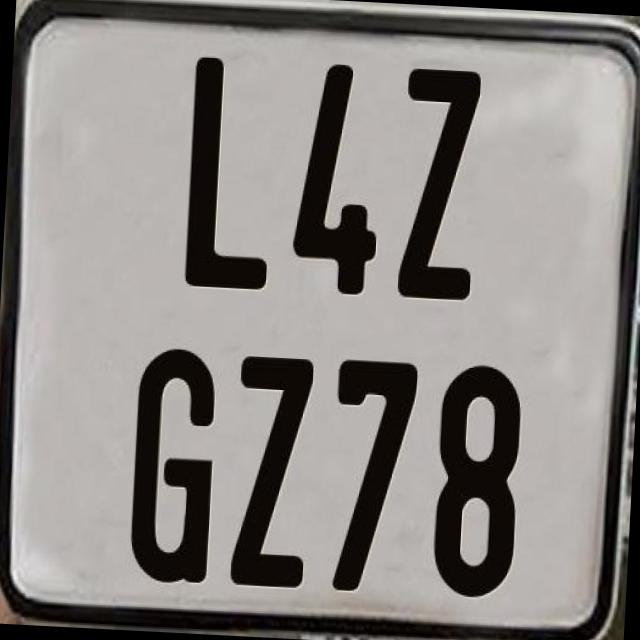4: (290, 58, 386, 298)
7: (328, 356, 418, 592)
8: (428, 360, 528, 601)
G: (126, 347, 218, 585)
L: (182, 55, 282, 293)
Z: (393, 66, 481, 304), (227, 352, 313, 593)
